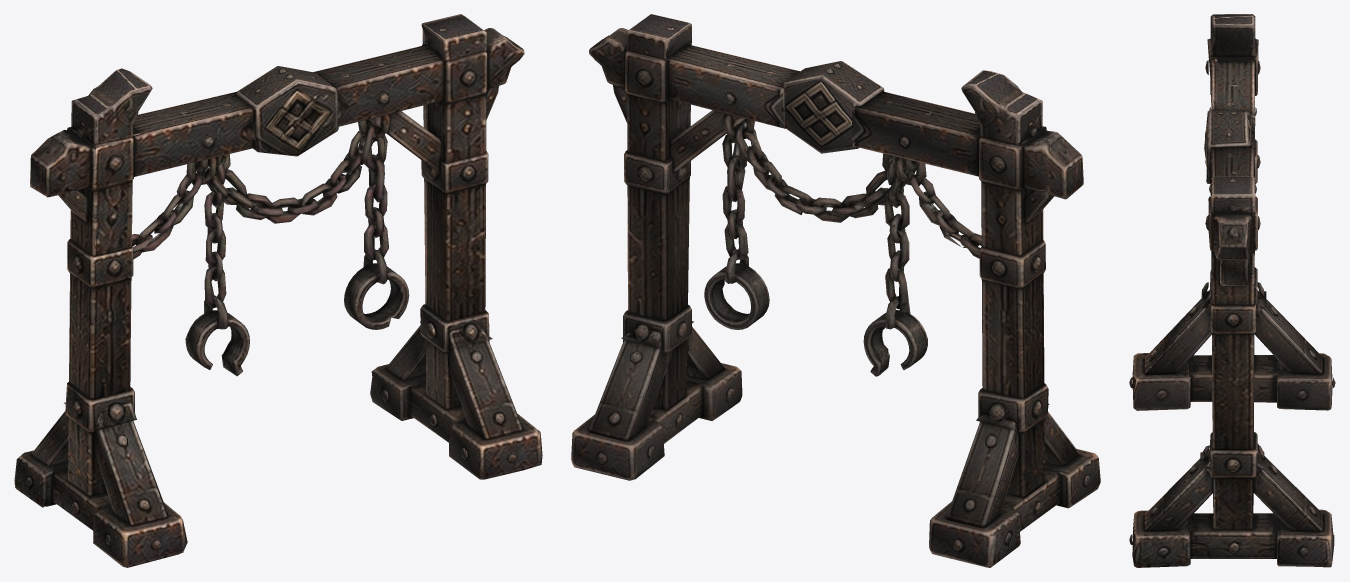
File: lancuchy.glb
The picture shows the model from 3 angles, left to right: view 1: azimuth 30°, elevation 25°; view 2: azimuth 150°, elevation 25°; view 3: azimuth 270°, elevation 25°; orthographic projection. The views are drawn at different scales.
Visible parts, largest first — view 1: Mesh_0; view 2: Mesh_0; view 3: Mesh_0.
Boxes of the visible parts, x1,y1,x2,y2 form: Mesh_0: [14, 14, 542, 567]; Mesh_0: [571, 14, 1100, 567]; Mesh_0: [1129, 14, 1335, 567].
Size of the model in its own units: 0.9497 by 0.8271 by 0.3921.
Materials: 1 (1 with a texture image).
